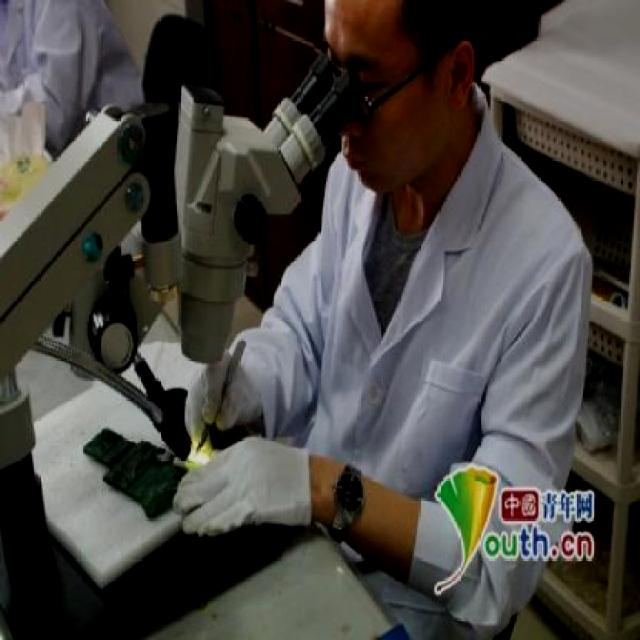face_nomask: (305, 43, 432, 183)
hand_glove: (172, 435, 316, 540), (178, 349, 257, 438)
head_nohelmet: (311, 0, 477, 40)
person: (288, 0, 594, 626)
